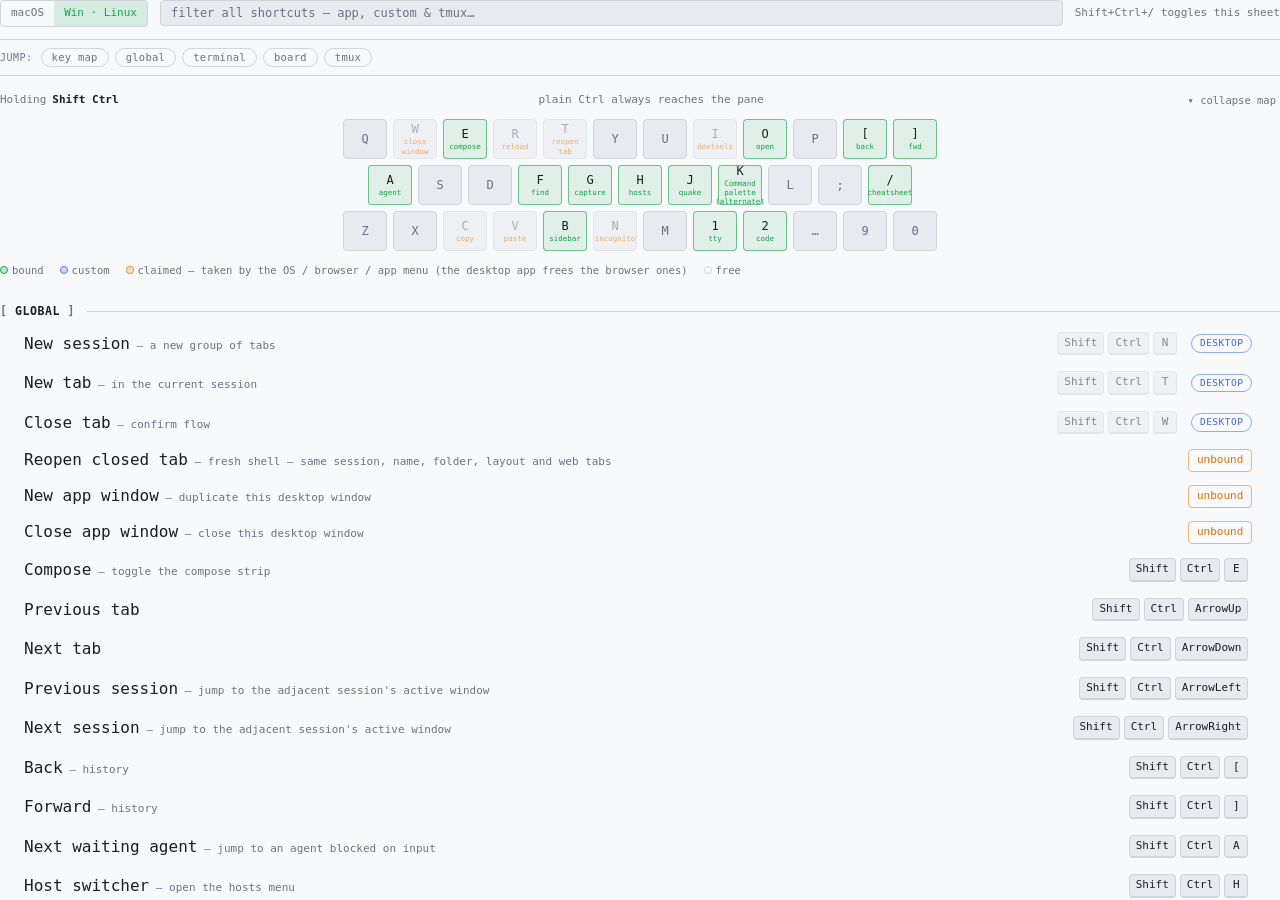
Scenario: SettingsShortcutsPanel merged view (260801-sm6g) › filtering shows live chip counts, dims empty chips, and hides the key map
The width and height of the screenshot is (1280, 900).
Expected: the text "Holding Shift Ctrl" is shown, [0,92,119,109]
Type "waiting" into the field named "Filter shortcuts". click: (611, 13)
box: [160,0,1063,26]
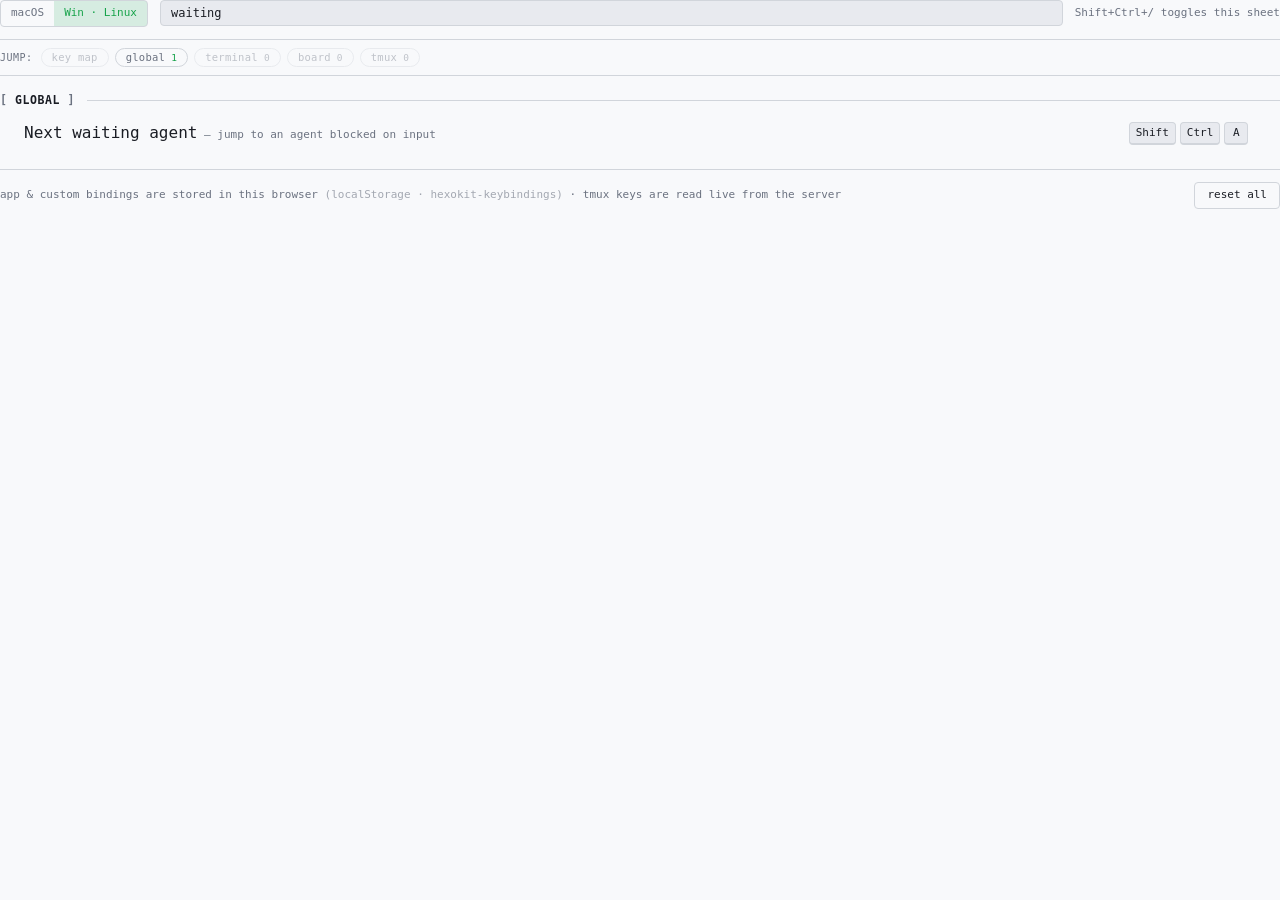
Now the text "Holding" is gone
Now the button "global1" is shown, box [115,48,188,67]
Now the button "board0" is shown, box [287,48,354,67]
Clearing the filter restores the map and drops the counts.
Clear the field named "Filter shortcuts". click: (611, 13)
box: [160,0,1063,26]
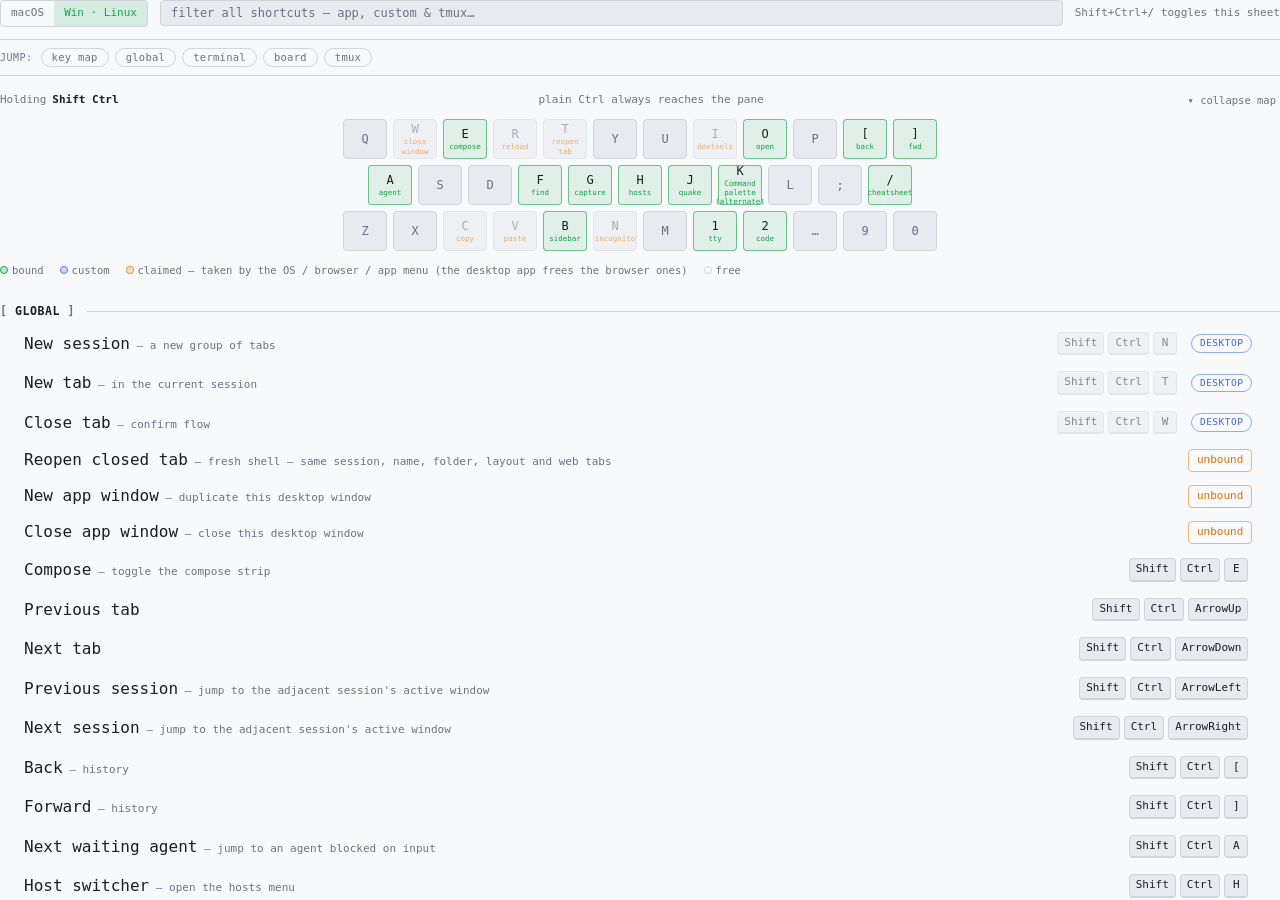
Now the text "Holding Shift Ctrl" is shown, box [0,92,119,109]
Now the button "global" is shown, box [115,48,176,67]
